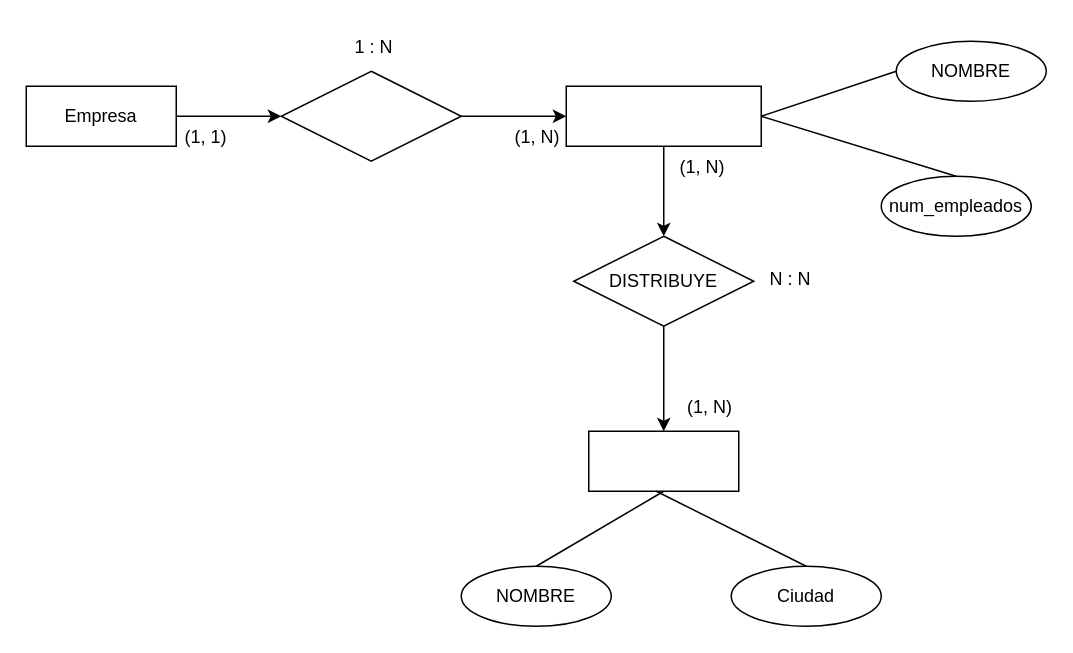
The diagram is 1073 pixels wide and 653 high, and some of its shapes have lost their labels. Each missing label, with the centre of its shape:
"DEPARTAMENTOS" belongs at [663,115].
"EDIFICIOS" belongs at [663,460].
"POSEE" belongs at [370,115].
